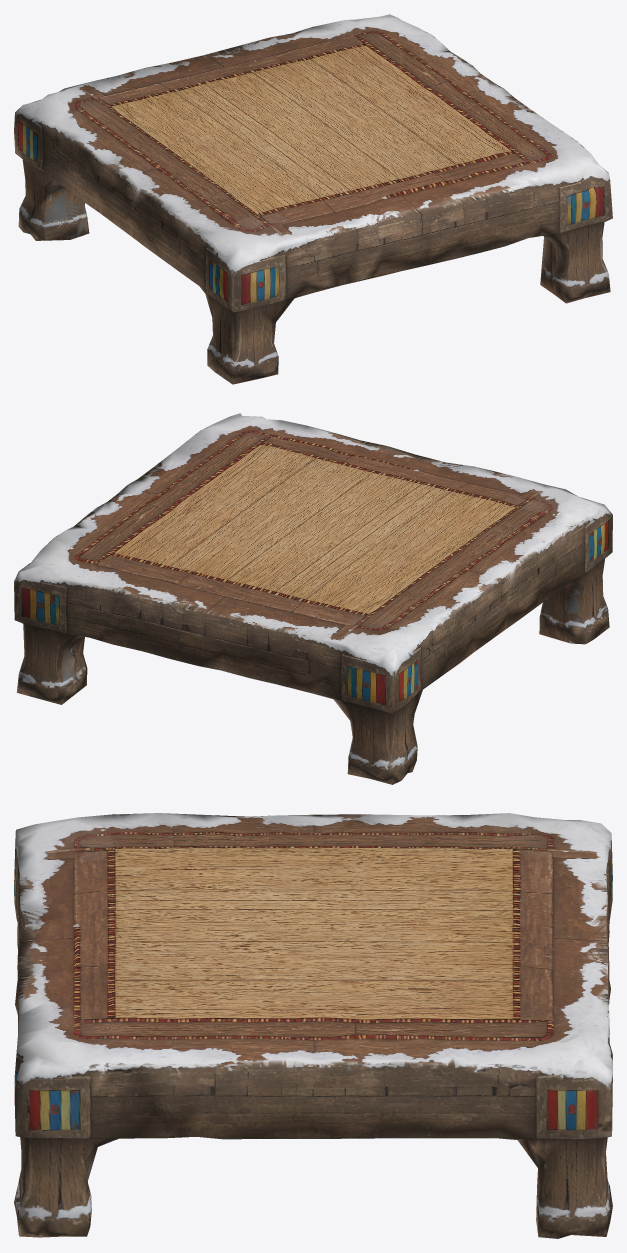
Rendered from PR_Pyeongsang.fbx.
3 renders of one model, top to bottom at view 1: azimuth 30°, elevation 25°; view 2: azimuth 150°, elevation 25°; view 3: azimuth 270°, elevation 25°, orthographic. The views are drawn at different scales.
Visible parts, largest first — view 1: texture_mapping; view 2: texture_mapping; view 3: texture_mapping.
Part boxes in pixels (x1,y1,x2,y2): texture_mapping: [14, 14, 612, 384]; texture_mapping: [14, 413, 612, 784]; texture_mapping: [14, 813, 612, 1238].
Size of the model in its own units: 1 by 1 by 0.3371.
Materials: 1 (1 with a texture image).
